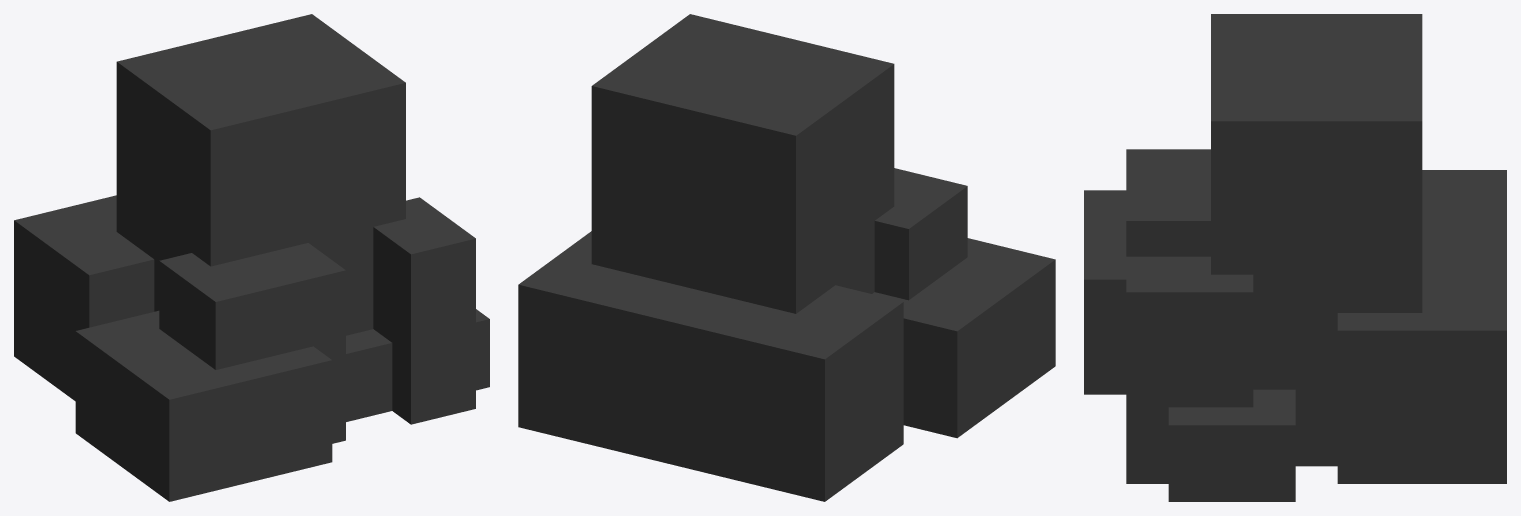
File: Rock 01.obj
3 views of the same model, side by side, from view 1: azimuth 30°, elevation 25°; view 2: azimuth 150°, elevation 25°; view 3: azimuth 270°, elevation 25° (orthographic). The views are drawn at different scales.
Bounding box in the file's own units: 1.1 × 0.9 × 1.
Materials: 1 (1 with a texture image).
